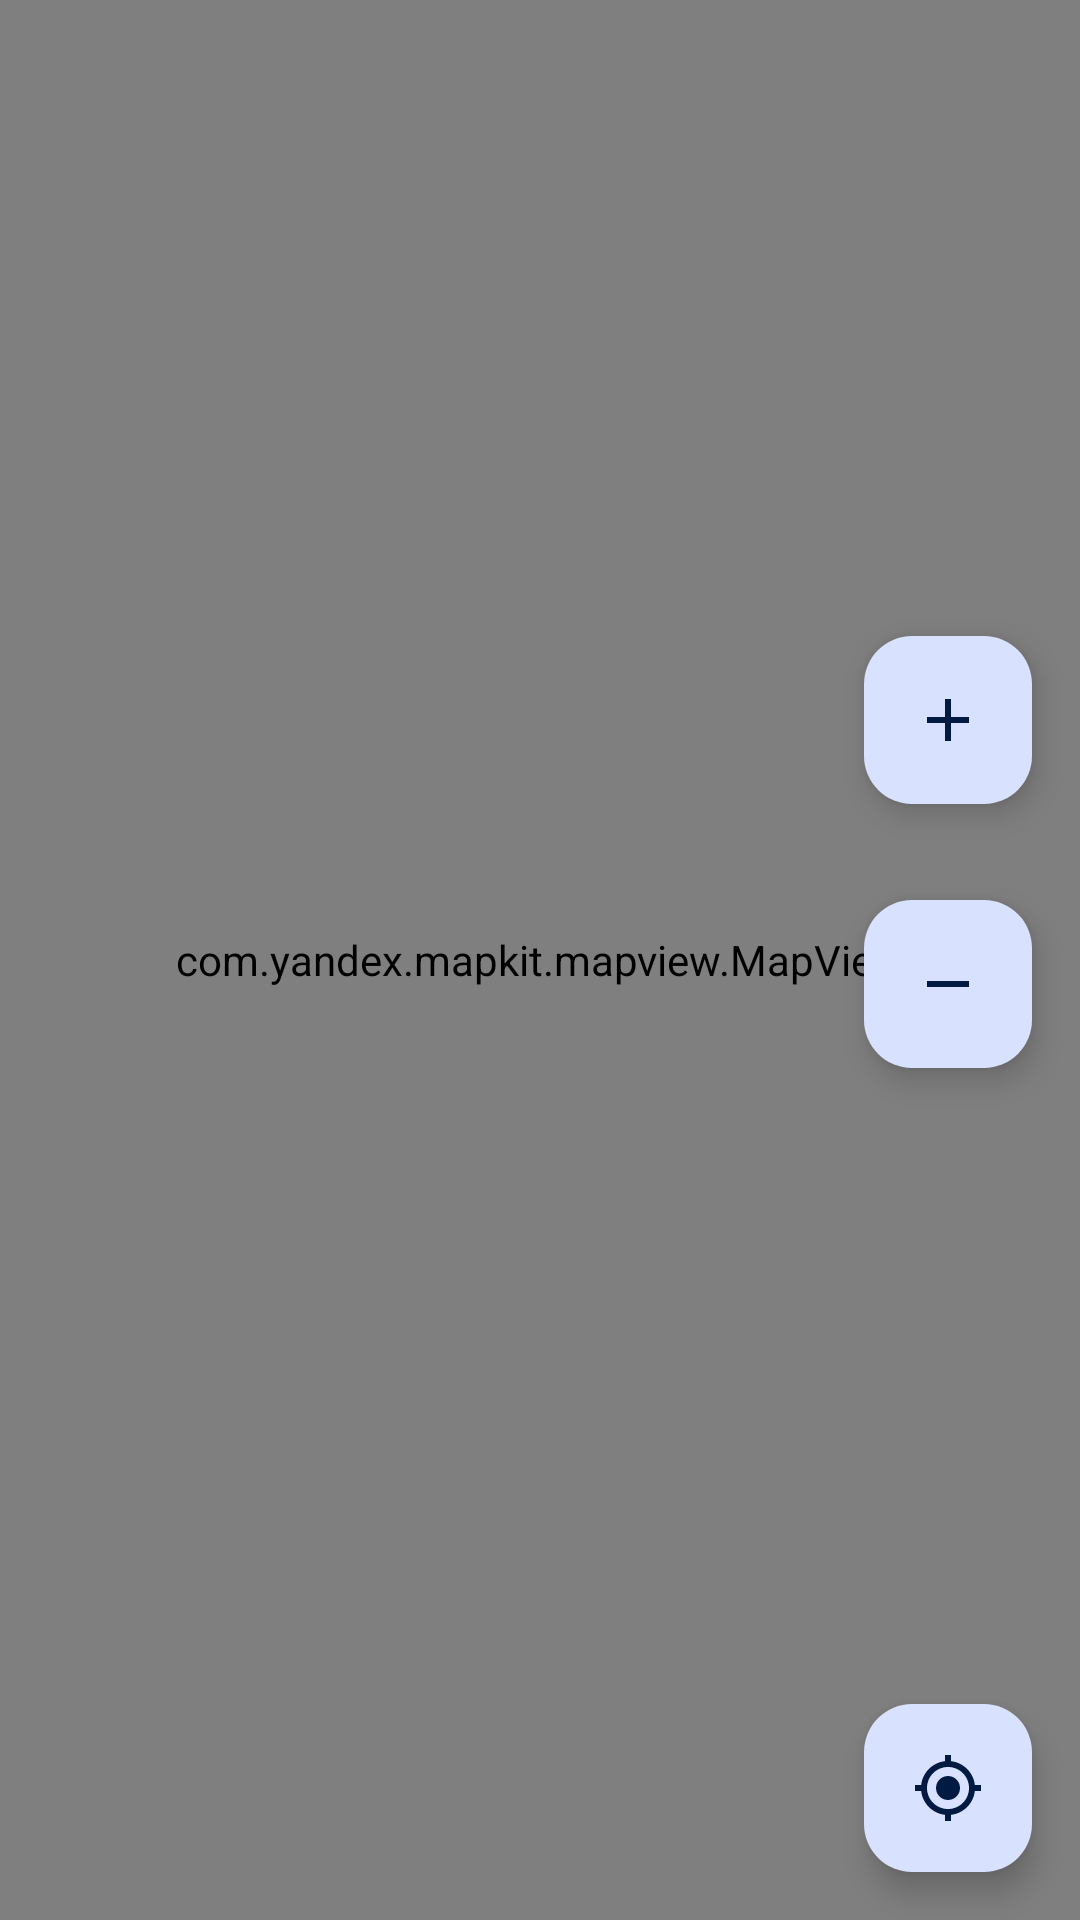

Screen size 1080px×1920px. Icon name, then its box in pixels as (x1, y1, x2, y2):
add: (864, 636, 1032, 804)
location: (864, 1704, 1032, 1872)
remove: (864, 900, 1032, 1068)
